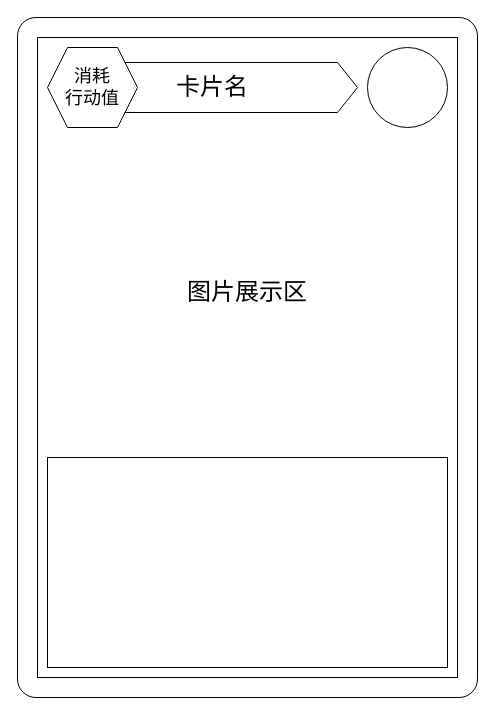
This 495x715 diagram has some shape labels left out. Each missing label, with the centre of its shape:
"卡片 类型" belongs at (407,87).
"效果描述区" belongs at (247,562).
